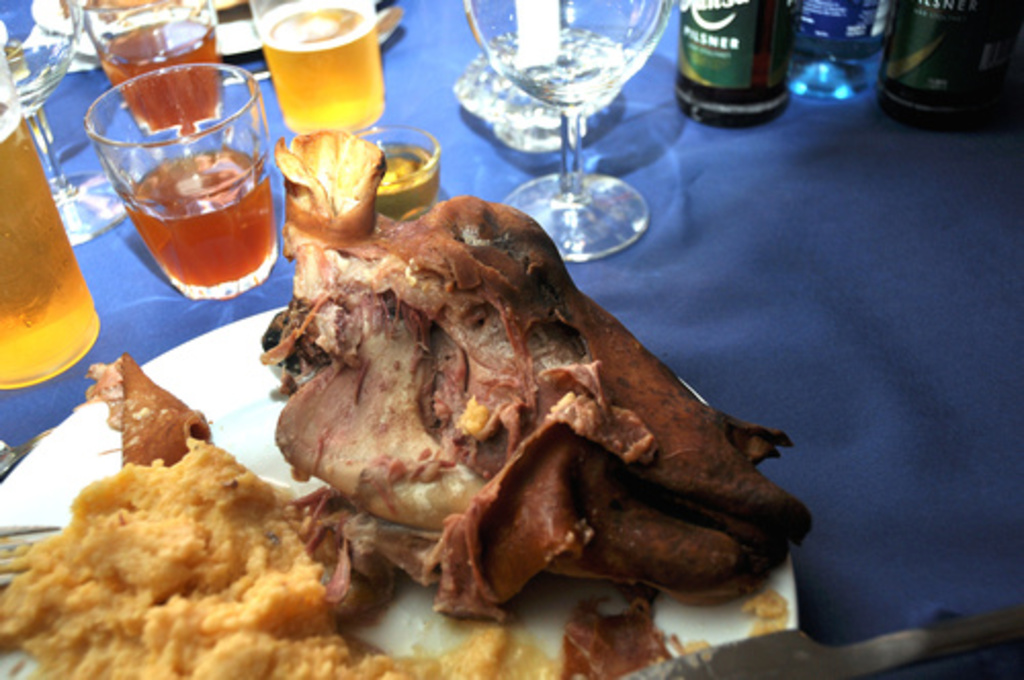Beer: (0, 108, 88, 397), (876, 0, 1021, 143), (243, 10, 391, 143), (665, 0, 811, 124)
